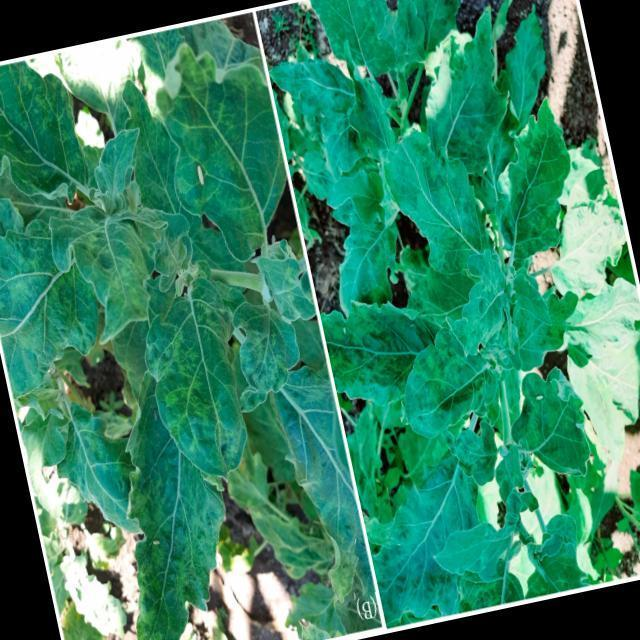Mosaic Virus: (82, 395, 257, 640), (157, 46, 293, 260), (142, 284, 257, 496), (260, 364, 369, 572), (476, 75, 588, 271), (372, 102, 492, 282), (358, 465, 482, 624), (0, 212, 103, 394), (46, 390, 143, 557), (51, 198, 160, 340), (0, 48, 90, 218), (502, 353, 600, 491), (264, 47, 368, 177), (322, 298, 426, 407), (84, 114, 168, 245), (394, 324, 494, 433), (222, 288, 310, 410), (434, 512, 530, 594), (362, 0, 437, 85)
